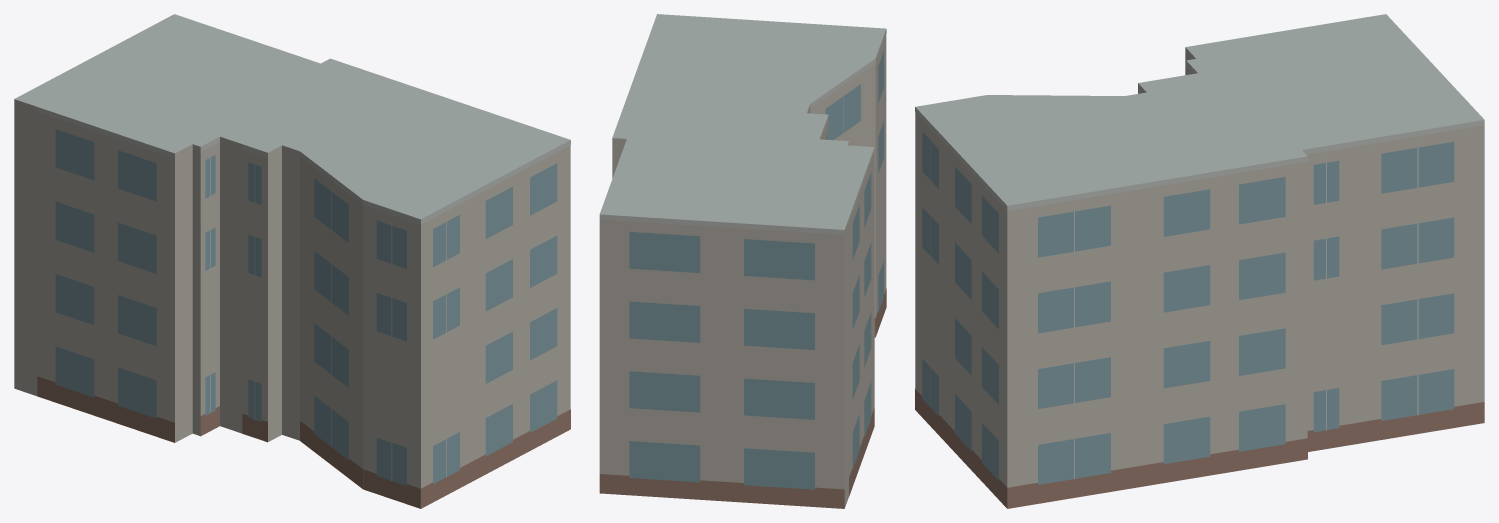
File: survey-upis-32474194.glb
The picture shows the model from 3 angles, left to right: view 1: azimuth 30°, elevation 25°; view 2: azimuth 150°, elevation 25°; view 3: azimuth 270°, elevation 25°; orthographic projection. The views are drawn at different scales.
Visible parts, largest first — view 1: survey-upis-32474194.tmp; view 2: survey-upis-32474194.tmp; view 3: survey-upis-32474194.tmp.
Part boxes in pixels (bbox=[...]): survey-upis-32474194.tmp: bbox=[14, 14, 570, 508]; survey-upis-32474194.tmp: bbox=[599, 14, 886, 508]; survey-upis-32474194.tmp: bbox=[915, 14, 1484, 508].
Size of the model in its own units: 18.38 by 13.53 by 23.06.
